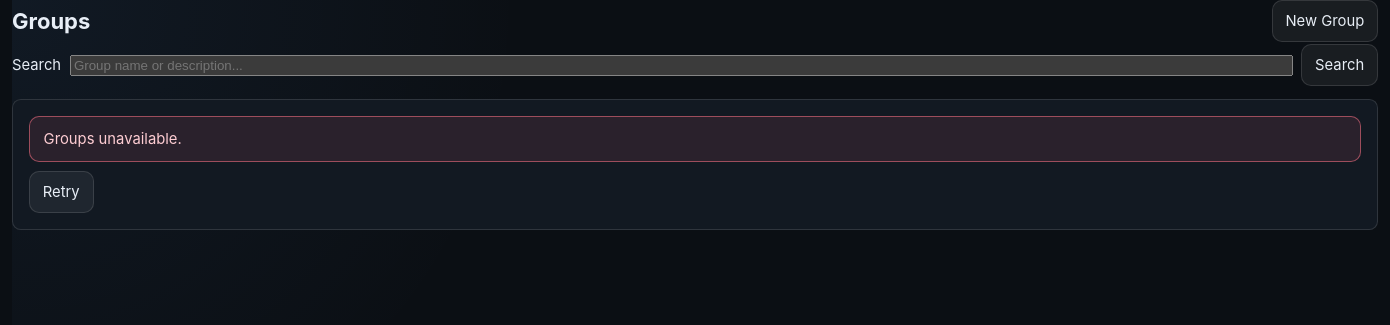
GroupsListOrchestrator › retries a failed request
The width and height of the screenshot is (1390, 325).
Check: the message "Groups unavailable." is shown, box [29,116,1361,162]
Step 1. Click the button "Retry" → (61, 192), box [29,171,94,213]
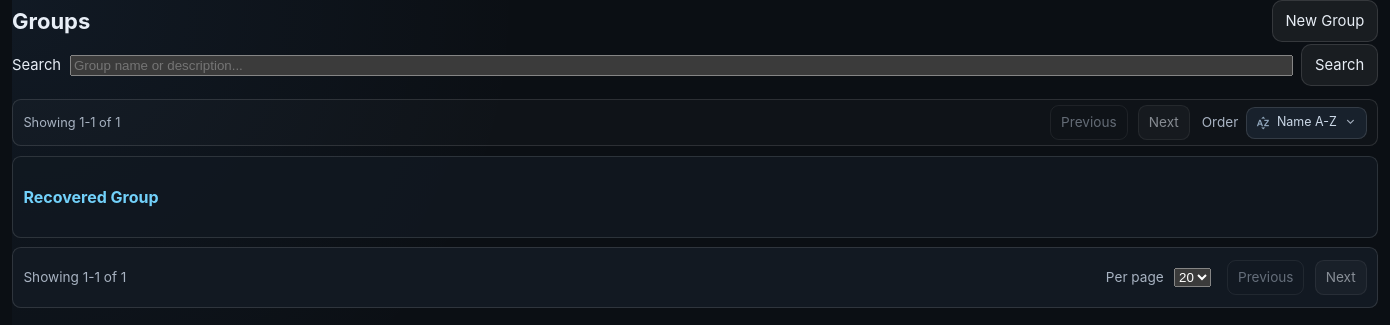
Check: the link to "/groups/recovered" is shown, box [23,187,158,207]
